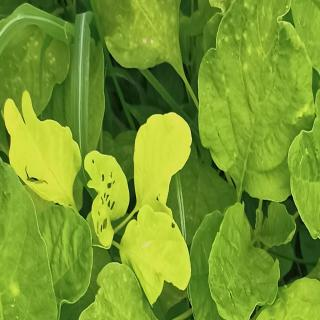karat_putih: (209, 0, 314, 159), (99, 1, 186, 73), (0, 26, 66, 100), (74, 286, 160, 320)
kekurangan_mangan: (2, 95, 86, 203), (122, 208, 194, 302), (132, 106, 193, 207)
virus_keriting: (0, 145, 33, 320)
